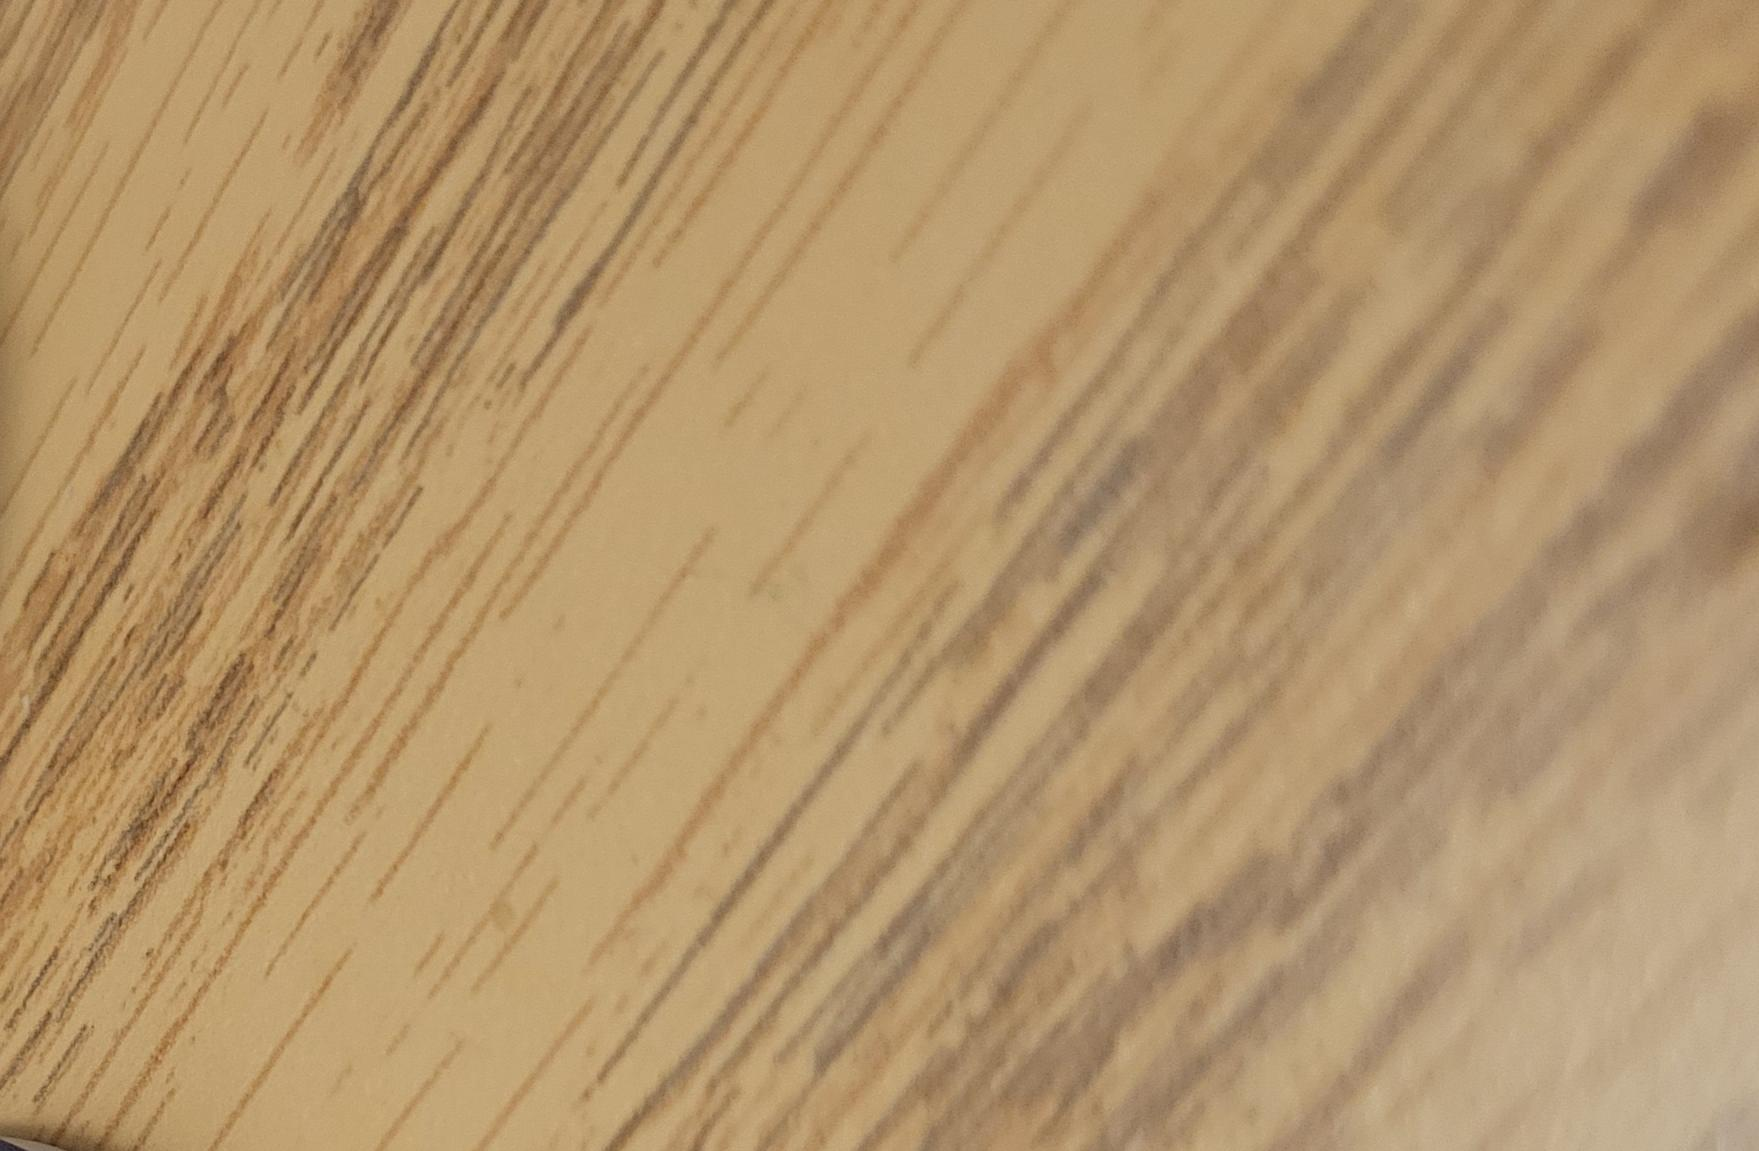Chip: (1, 137, 818, 1151)
